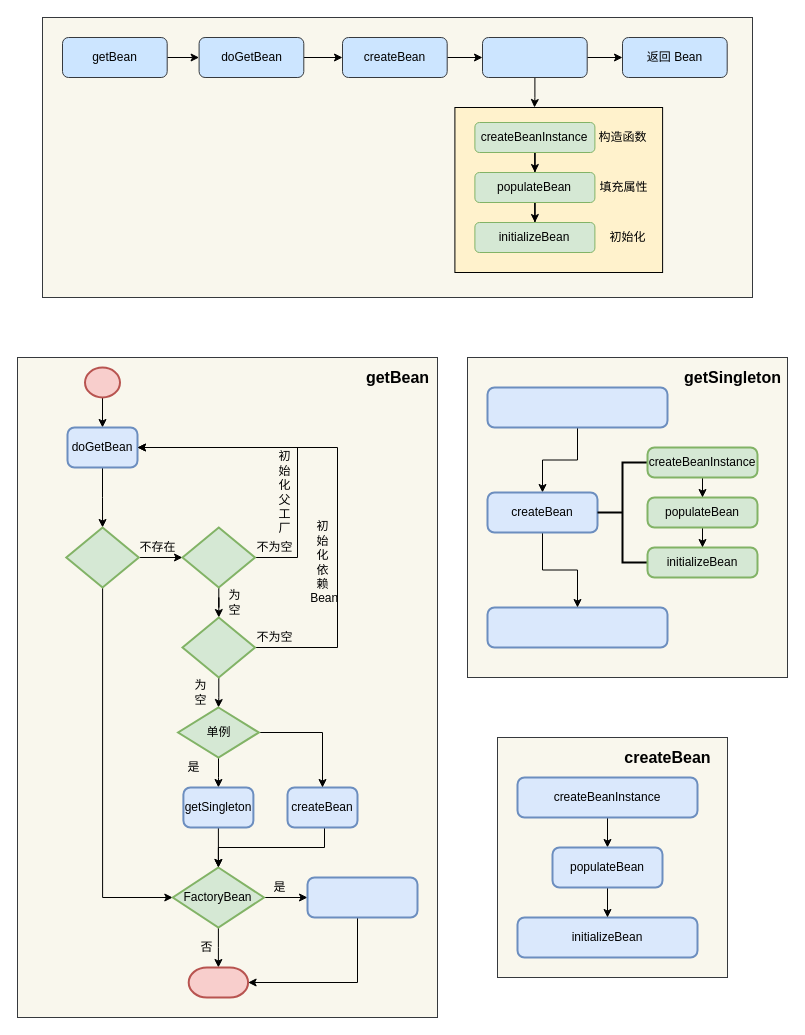
Some shapes in this 805 by 1035 pixel diagram are drawn without their labels. Here are the shapes that lost their labels. From the top down, the centre of each, then its label:
At point 534,57: "doCreateBean".
At point 577,407: "afterSingletonCreationn".
At point 102,557: "一级缓存".
At point 218,557: "父工厂".
At point 218,647: "依赖Bean".
At point 577,627: "beforeSingletonCreationn".
At point 362,897: "factory.getObject".
